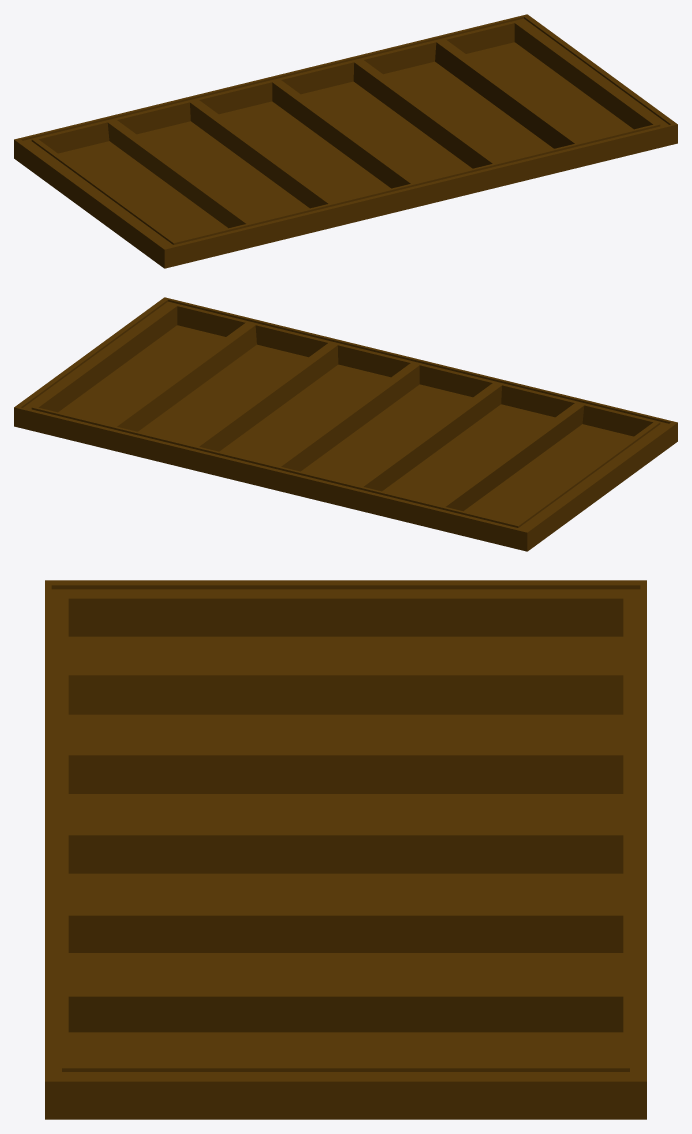
The model's file is UI_SM_Poker_Chip_Box.fbx.
The picture shows the model from 3 angles, top to bottom: view 1: azimuth 30°, elevation 25°; view 2: azimuth 150°, elevation 25°; view 3: azimuth 270°, elevation 25°; orthographic projection. The views are drawn at different scales.
Visible parts, largest first — view 1: UI_SM_Poker_Chip_Box; view 2: UI_SM_Poker_Chip_Box; view 3: UI_SM_Poker_Chip_Box.
Part boxes in pixels (box(x1,y1,x2,y2)): UI_SM_Poker_Chip_Box: box(14, 14, 677, 268); UI_SM_Poker_Chip_Box: box(14, 297, 677, 551); UI_SM_Poker_Chip_Box: box(45, 580, 646, 1119).
Size of the model in its own units: 1393 by 707 by 49.35.
